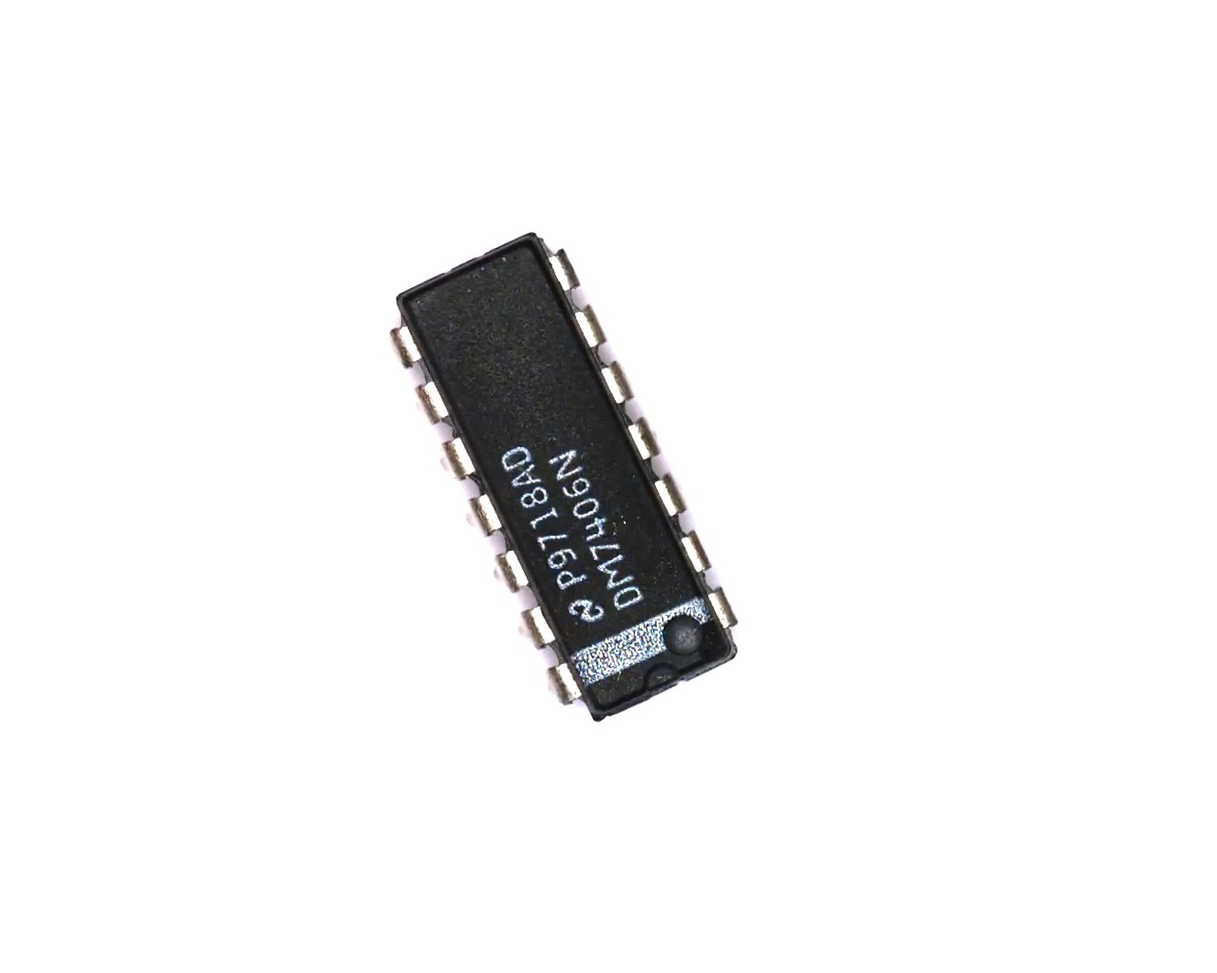IC: (357, 210, 774, 754)
notch: (641, 664, 679, 703)
